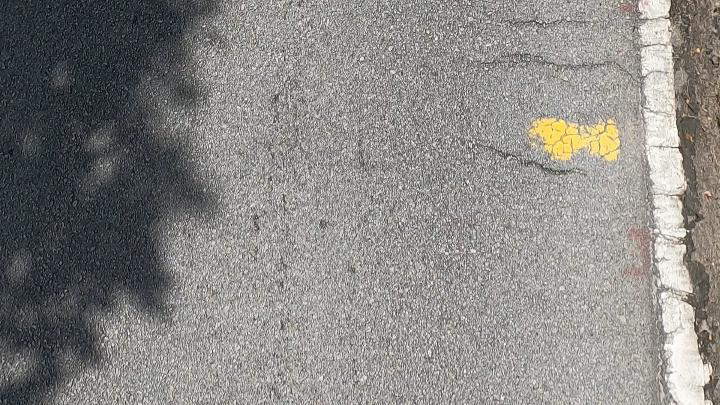Lane: (636, 0, 719, 402), (638, 0, 709, 404)
